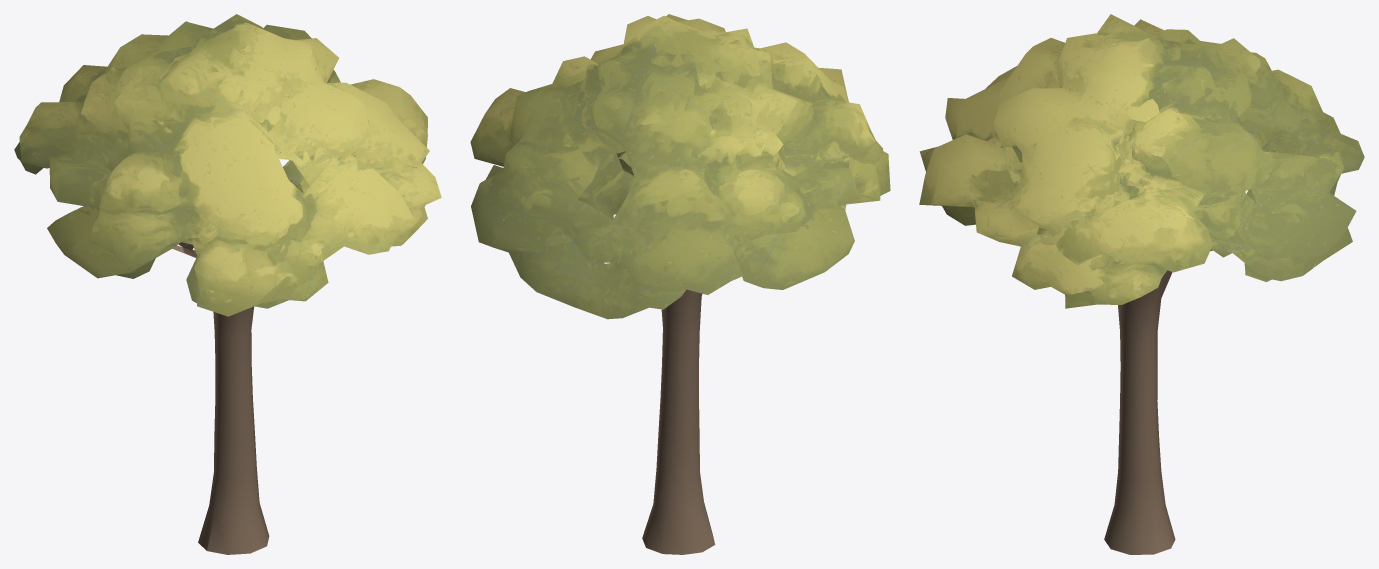
The model's file is tree_round_b.glb.
The picture shows the model from 3 angles, left to right: view 1: azimuth 30°, elevation 25°; view 2: azimuth 150°, elevation 25°; view 3: azimuth 270°, elevation 25°; orthographic projection.
Visible parts, largest first — view 1: body; view 2: body; view 3: body.
Boxes of the visible parts, x1,y1,x2,y2 form: body: (14,14,441,554); body: (470,14,890,554); body: (919,14,1364,554).
Size of the model in its own units: 3.31 by 4.38 by 3.49.
Materials: 2 (2 with a texture image).
